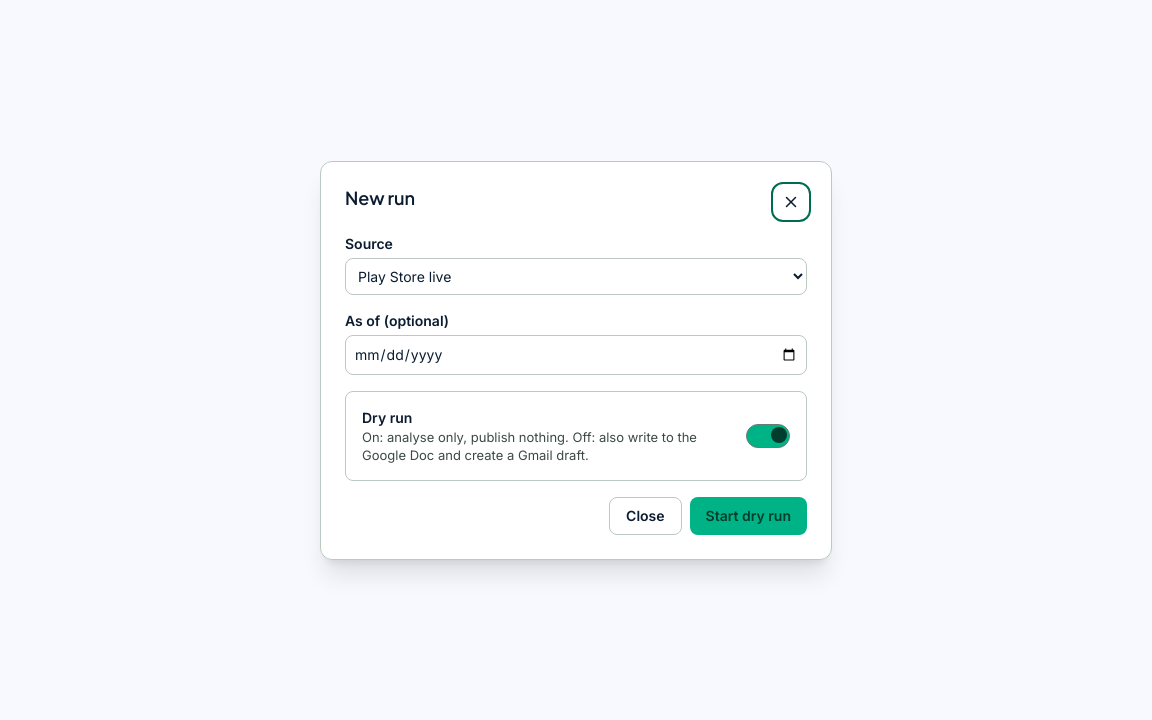
Test: RunControl › explains a 409
Click the button "Start dry run".
click(748, 516)  # box [690,496,807,534]
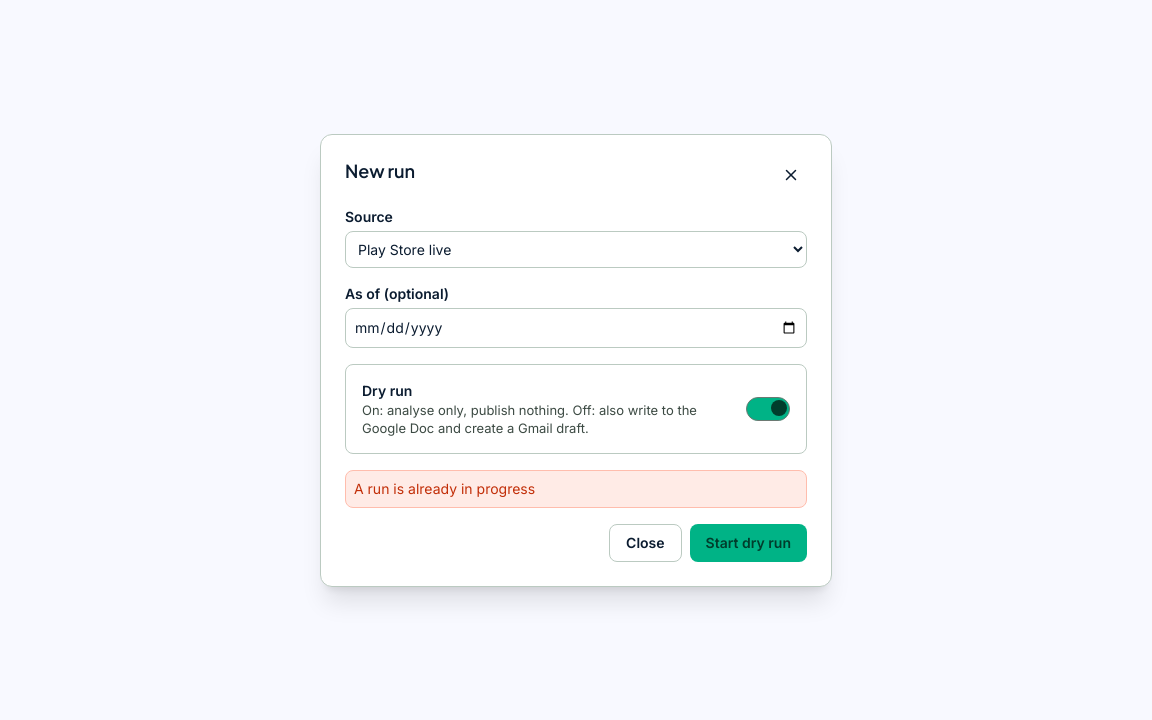
Now the message reads "A run is already in progress", box [354,480,535,496]
